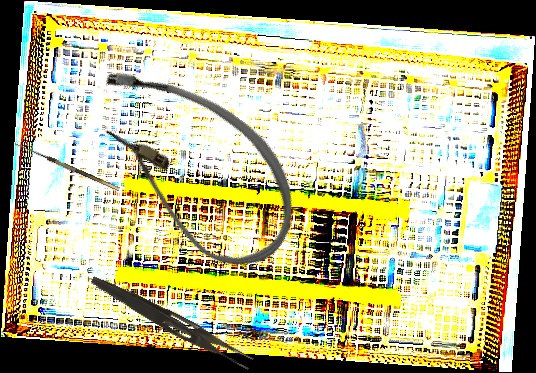Cannula: (55, 42, 327, 289)
Dressing Forceps: (86, 273, 257, 371)
Hook Surgical: (11, 141, 121, 197)
